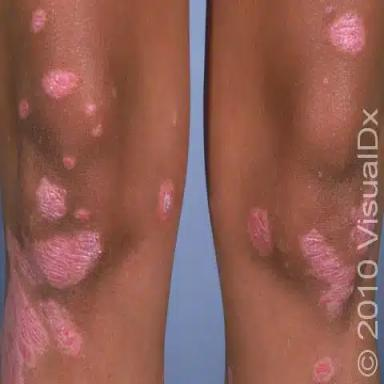Psoriasis: (4, 232, 105, 383), (301, 229, 355, 318), (36, 176, 67, 222), (330, 12, 365, 52), (248, 207, 272, 256), (42, 69, 79, 98), (157, 179, 173, 221), (313, 357, 333, 383), (31, 9, 47, 34), (74, 208, 90, 222), (19, 99, 29, 120), (91, 123, 103, 138), (64, 156, 77, 169), (86, 103, 97, 114)
